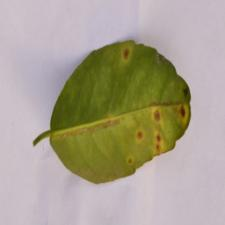Canker: (108, 45, 193, 176)
